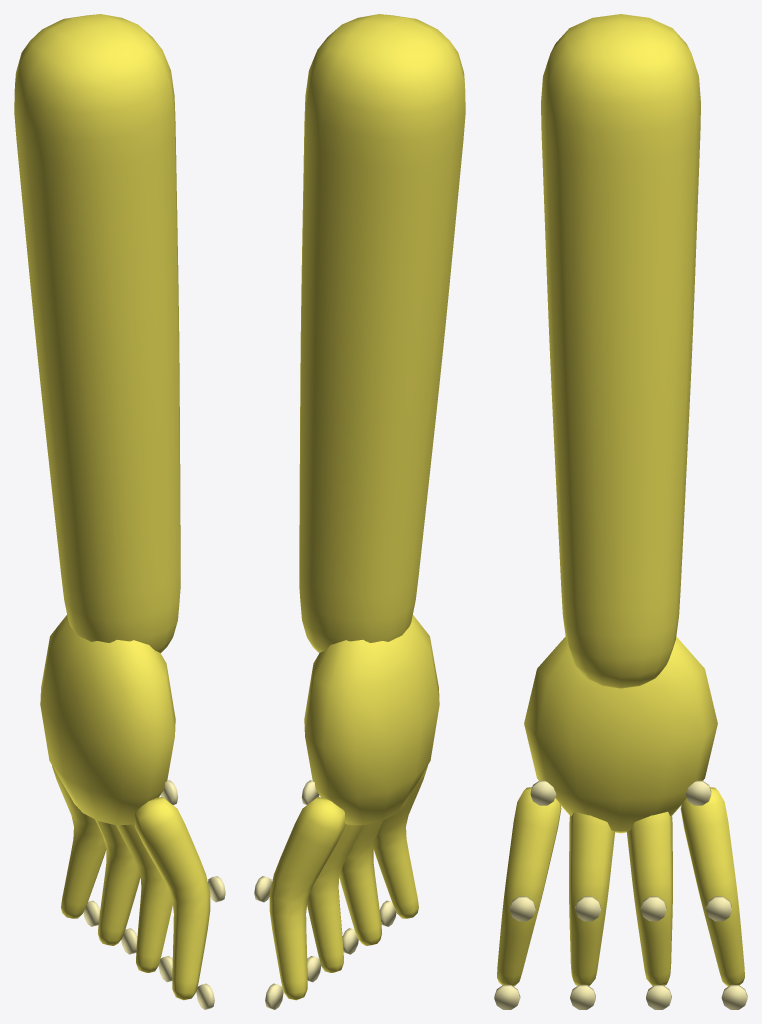
Rendered from SM_Partygoer_LowerArm.fbx.
3 views of the same model, side by side, from view 1: azimuth 30°, elevation 25°; view 2: azimuth 150°, elevation 25°; view 3: azimuth 270°, elevation 25° (orthographic).
Visible parts, largest first — view 1: SM_Partygoer_LowerArm; view 2: SM_Partygoer_LowerArm; view 3: SM_Partygoer_LowerArm.
Boxes of the visible parts, x1,y1,x2,y2 form: SM_Partygoer_LowerArm: [14, 14, 225, 1009]; SM_Partygoer_LowerArm: [254, 14, 465, 1009]; SM_Partygoer_LowerArm: [494, 14, 747, 1009].
Size of the model in its own units: 7.91 by 49.08 by 11.76.
